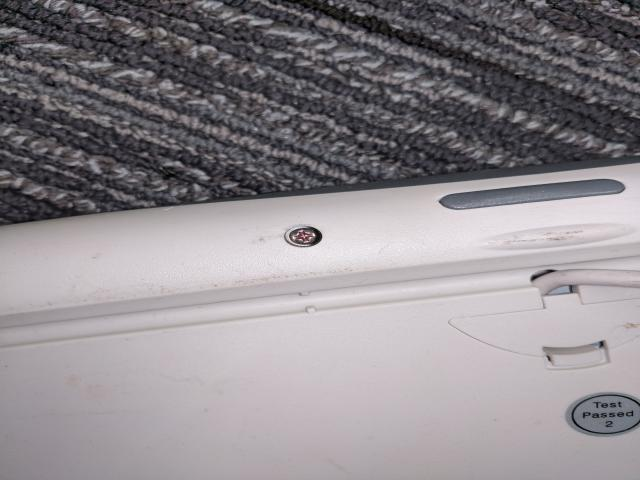CRS: (288, 227, 322, 246)
